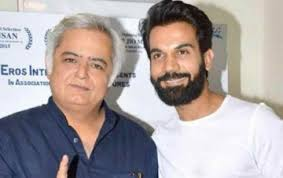Bad: (1, 1, 283, 178)
